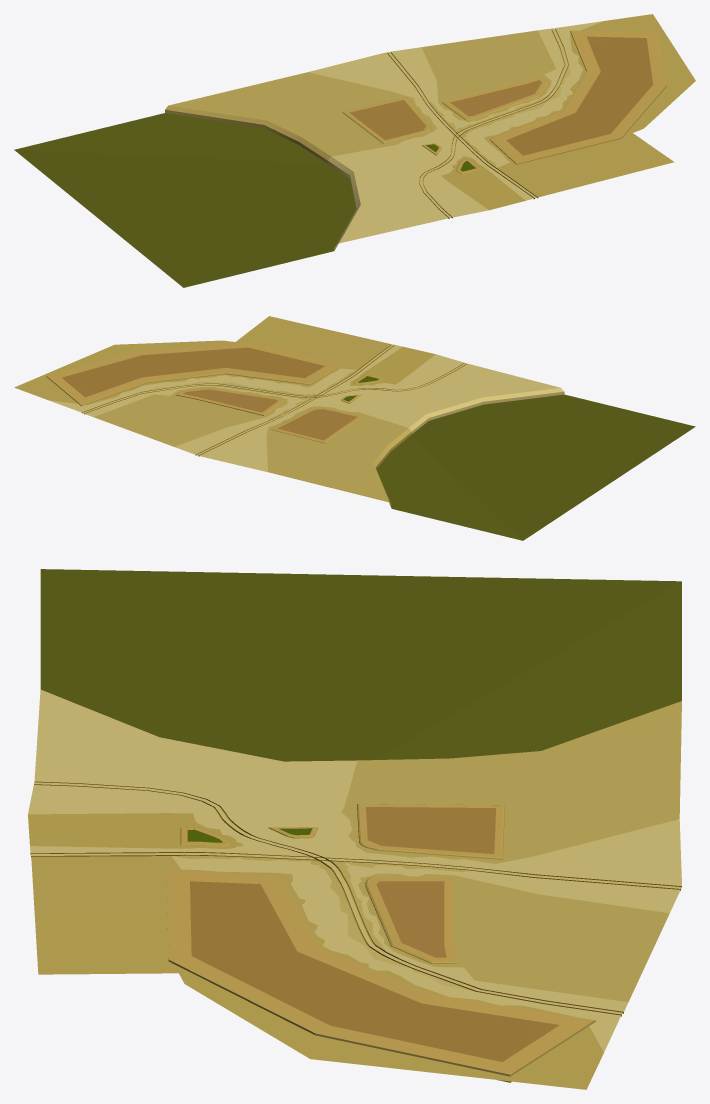
File: SM_Tramway_Ground_01.fbx
3 views of the same model, one above another, from view 1: azimuth 30°, elevation 25°; view 2: azimuth 150°, elevation 25°; view 3: azimuth 270°, elevation 25° (orthographic). The views are drawn at different scales.
Visible parts, largest first — view 1: SM_Tramway_Ground_01; view 2: SM_Tramway_Ground_01; view 3: SM_Tramway_Ground_01.
Boxes of the visible parts, box(x1,y1,x2,y2) form: SM_Tramway_Ground_01: box(14, 14, 695, 287); SM_Tramway_Ground_01: box(14, 316, 695, 540); SM_Tramway_Ground_01: box(28, 569, 681, 1089).
Bounding box in the file's own units: 167 × 1.98 × 86.55.
